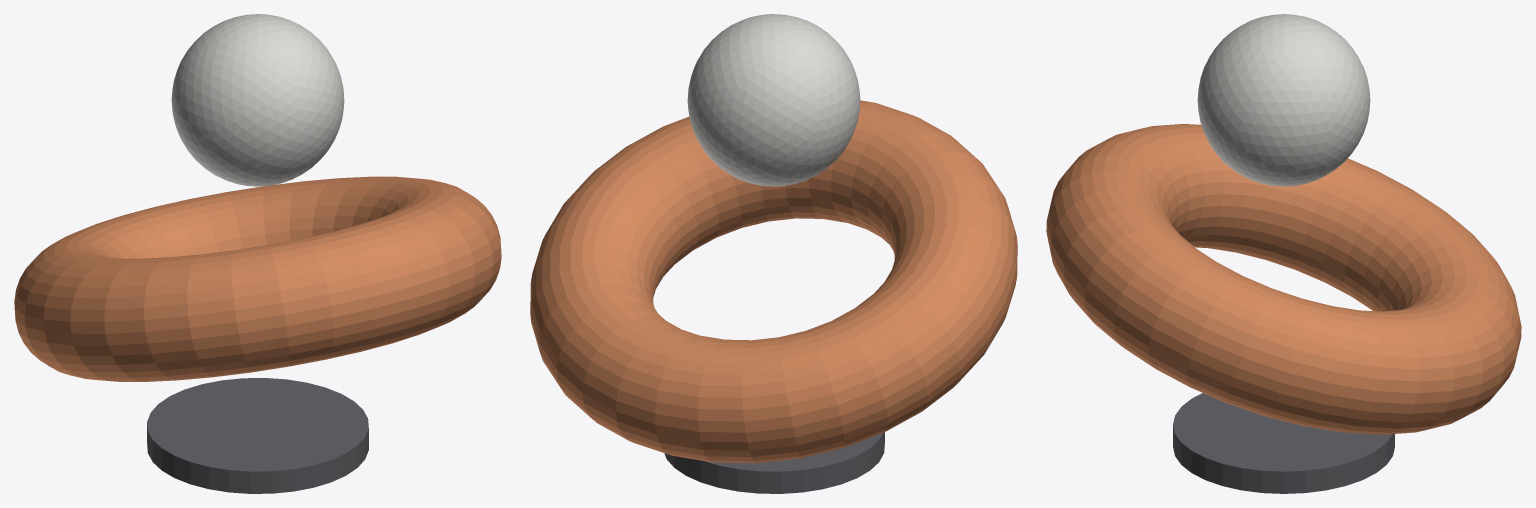
Rendered from demo.glb.
3 renders of one model, left to right at view 1: azimuth 30°, elevation 25°; view 2: azimuth 150°, elevation 25°; view 3: azimuth 270°, elevation 25°, orthographic.
Visible parts, largest first — view 1: geometry_0, geometry_1, geometry_2; view 2: geometry_0, geometry_1, geometry_2; view 3: geometry_0, geometry_1, geometry_2.
Boxes of the visible parts, left/top/right/bottom form: geometry_0: left=14, top=176, right=501, bottom=381; geometry_1: left=171, top=14, right=344, bottom=186; geometry_2: left=147, top=378, right=368, bottom=493; geometry_0: left=530, top=100, right=1017, bottom=463; geometry_1: left=687, top=14, right=860, bottom=186; geometry_2: left=664, top=432, right=884, bottom=493; geometry_0: left=1046, top=124, right=1521, bottom=434; geometry_1: left=1197, top=14, right=1370, bottom=186; geometry_2: left=1173, top=393, right=1394, bottom=493.
Size of the model in its own units: 0.4 by 0.38 by 0.385.
